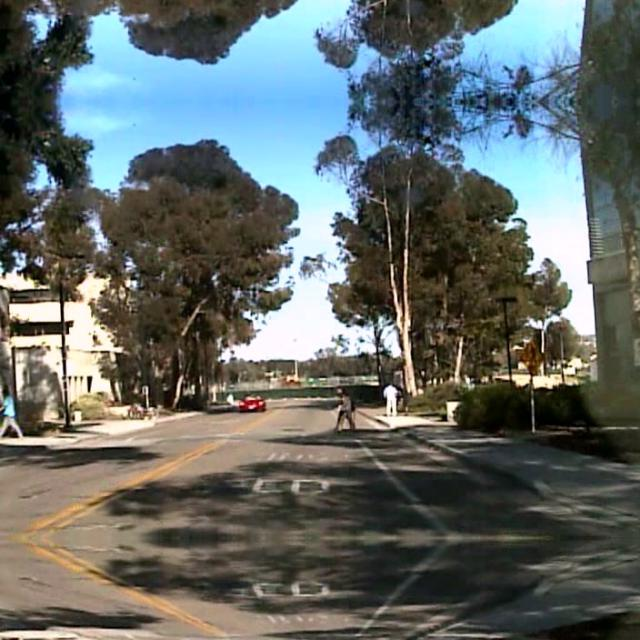pedestrianCrossing: (518, 340, 544, 372)
